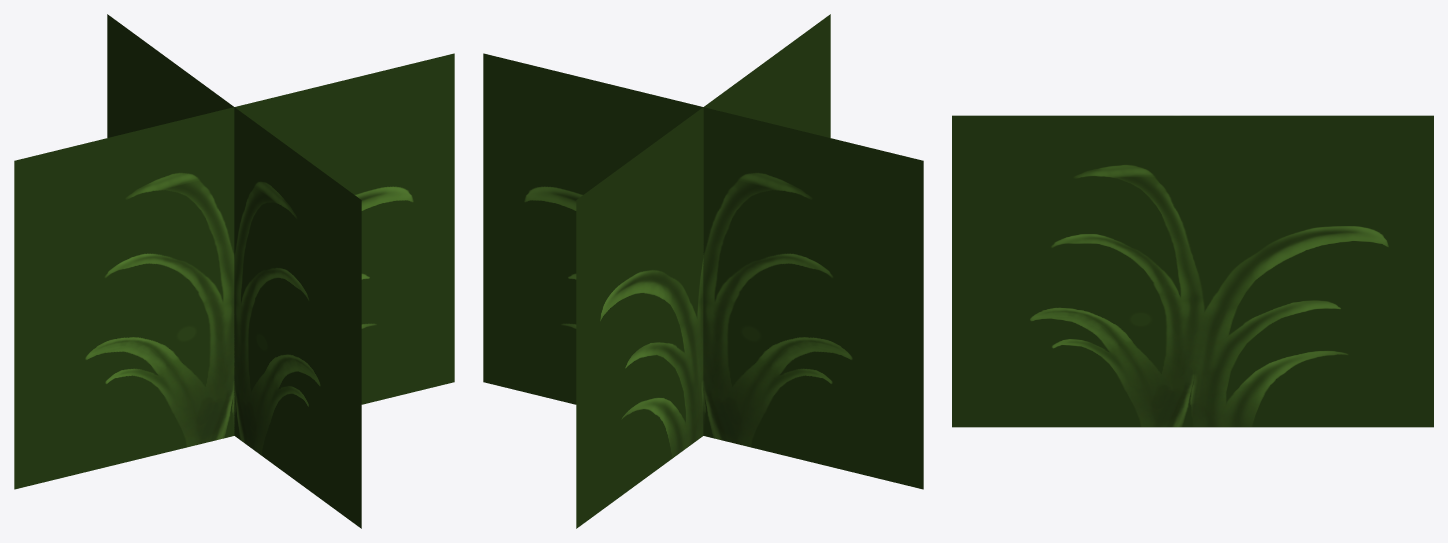
File: Grass-FBX.FBX
3 views of the same model, side by side, from view 1: azimuth 30°, elevation 25°; view 2: azimuth 150°, elevation 25°; view 3: azimuth 270°, elevation 25° (orthographic). The views are drawn at different scales.
Visible parts, largest first — view 1: Plane001; view 2: Plane001; view 3: Plane001.
Boxes of the visible parts, left/top/right/bottom form: Plane001: left=14, top=14, right=454, bottom=528; Plane001: left=483, top=14, right=923, bottom=528; Plane001: left=952, top=115, right=1433, bottom=427.
Bounding box in the file's own units: 156 × 111 × 156.
